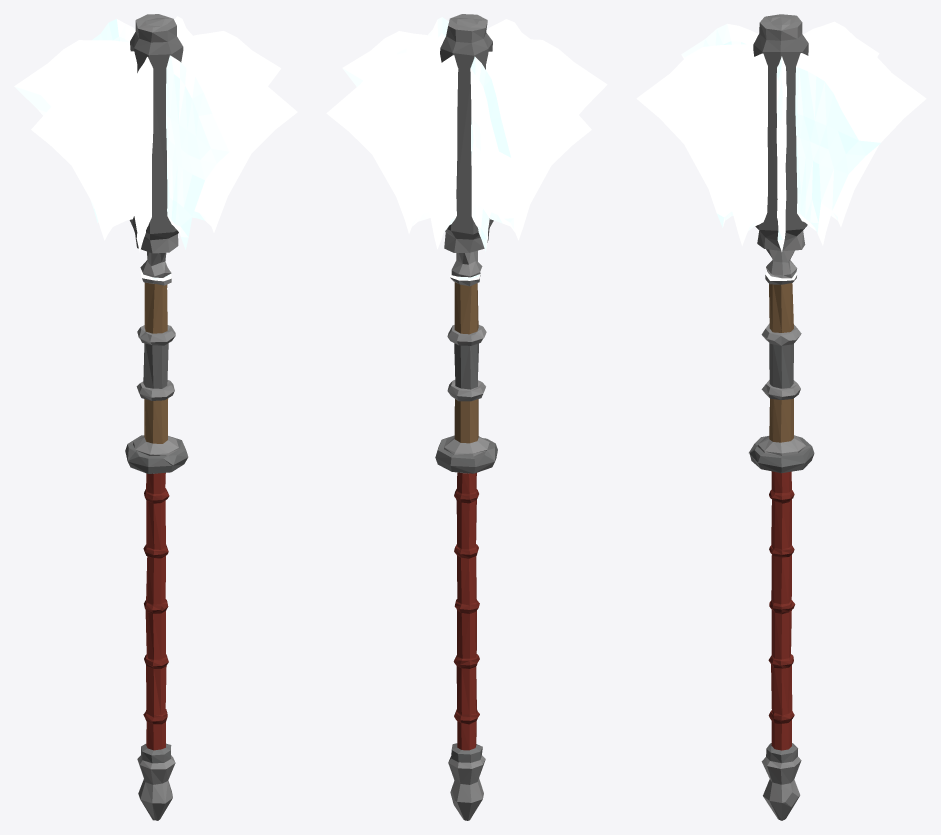
The model's file is SFFA_Weapon_Mace_Runical_002.fbx.
3 views of the same model, side by side, from view 1: azimuth 30°, elevation 25°; view 2: azimuth 150°, elevation 25°; view 3: azimuth 270°, elevation 25° (orthographic).
Parts seen in each view (by area): view 1: SFFA_Weapon_Mace_Runical_002; view 2: SFFA_Weapon_Mace_Runical_002; view 3: SFFA_Weapon_Mace_Runical_002.
Part boxes in pixels (x1,y1,x2,y2): SFFA_Weapon_Mace_Runical_002: (14,14,297,820); SFFA_Weapon_Mace_Runical_002: (326,14,607,820); SFFA_Weapon_Mace_Runical_002: (636,14,926,820).
Size of the model in its own units: 26.01 by 79.35 by 26.15.
